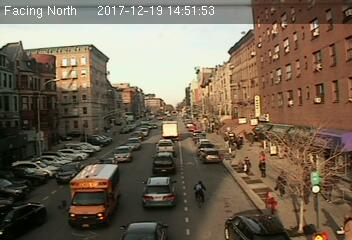bicycle: (192, 178, 206, 210)
car: (223, 206, 289, 240), (140, 177, 179, 209), (118, 221, 167, 240), (54, 160, 84, 184), (148, 152, 176, 174), (200, 148, 222, 164), (154, 139, 177, 154), (112, 146, 133, 162)
pedestrian: (275, 172, 287, 201), (242, 155, 252, 175), (258, 157, 267, 177)
truck: (68, 163, 121, 226), (161, 119, 179, 139)
